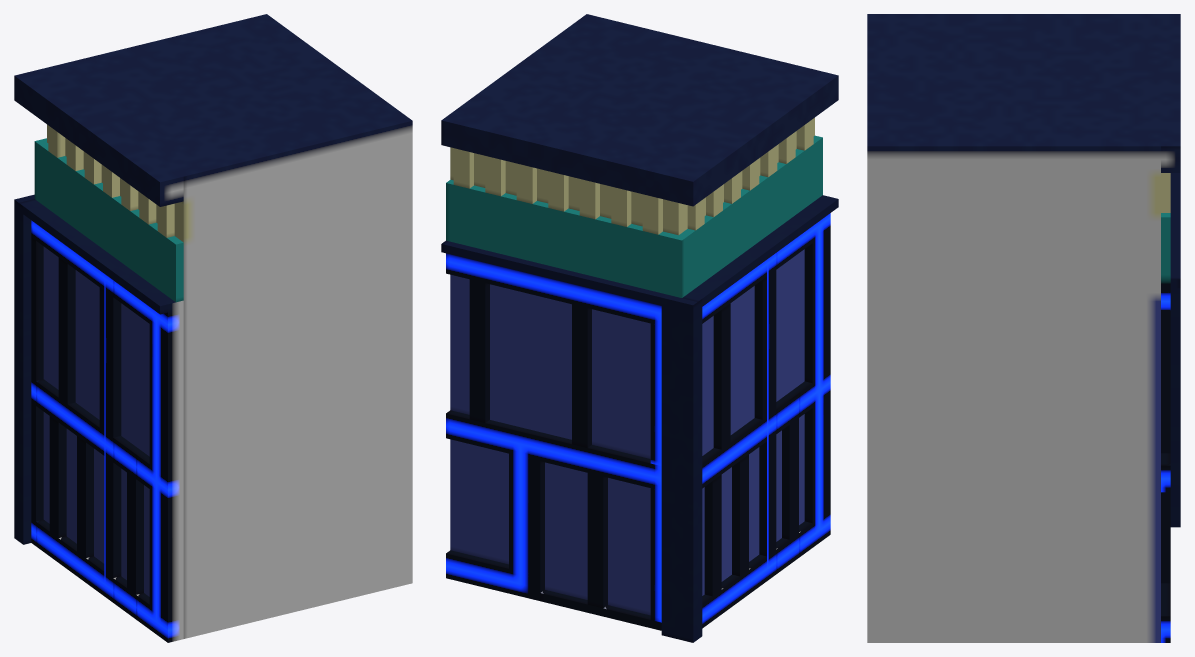
Rendered from budynek_dzwi.dae.
The picture shows the model from 3 angles, left to right: view 1: azimuth 30°, elevation 25°; view 2: azimuth 150°, elevation 25°; view 3: azimuth 270°, elevation 25°; orthographic projection. The views are drawn at different scales.
Visible parts, largest first — view 1: Content; view 2: Content; view 3: Content.
Part boxes in pixels (x1=…): Content: x1=14, y1=14, x2=412, y2=642; Content: x1=441, y1=14, x2=838, y2=642; Content: x1=867, y1=14, x2=1180, y2=642.
Bounding box in the file's own units: 32 × 56 × 32.
1 material, 1 textured.
